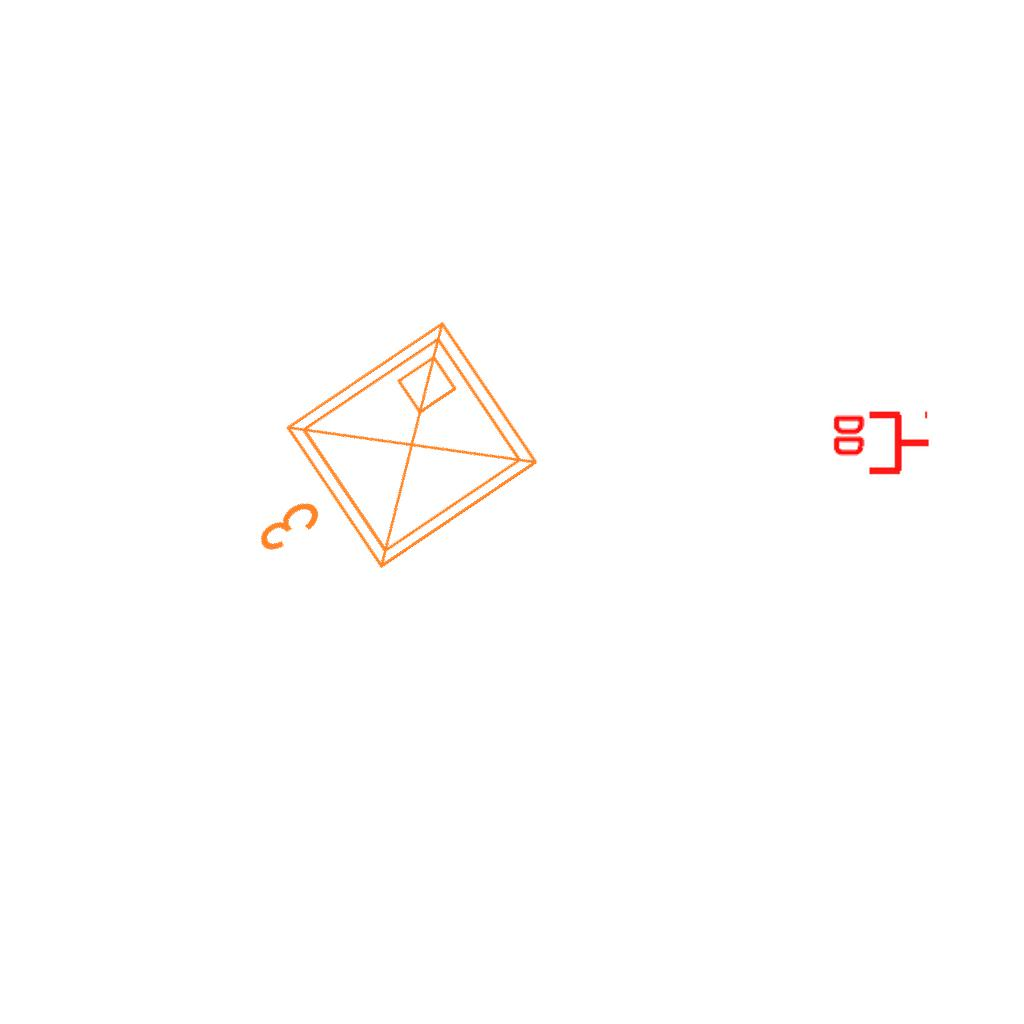Datenanschluss_zweifach: (829, 410, 932, 479)
Einbaudownlights_LED_Konferenzraeume: (197, 300, 563, 642)
